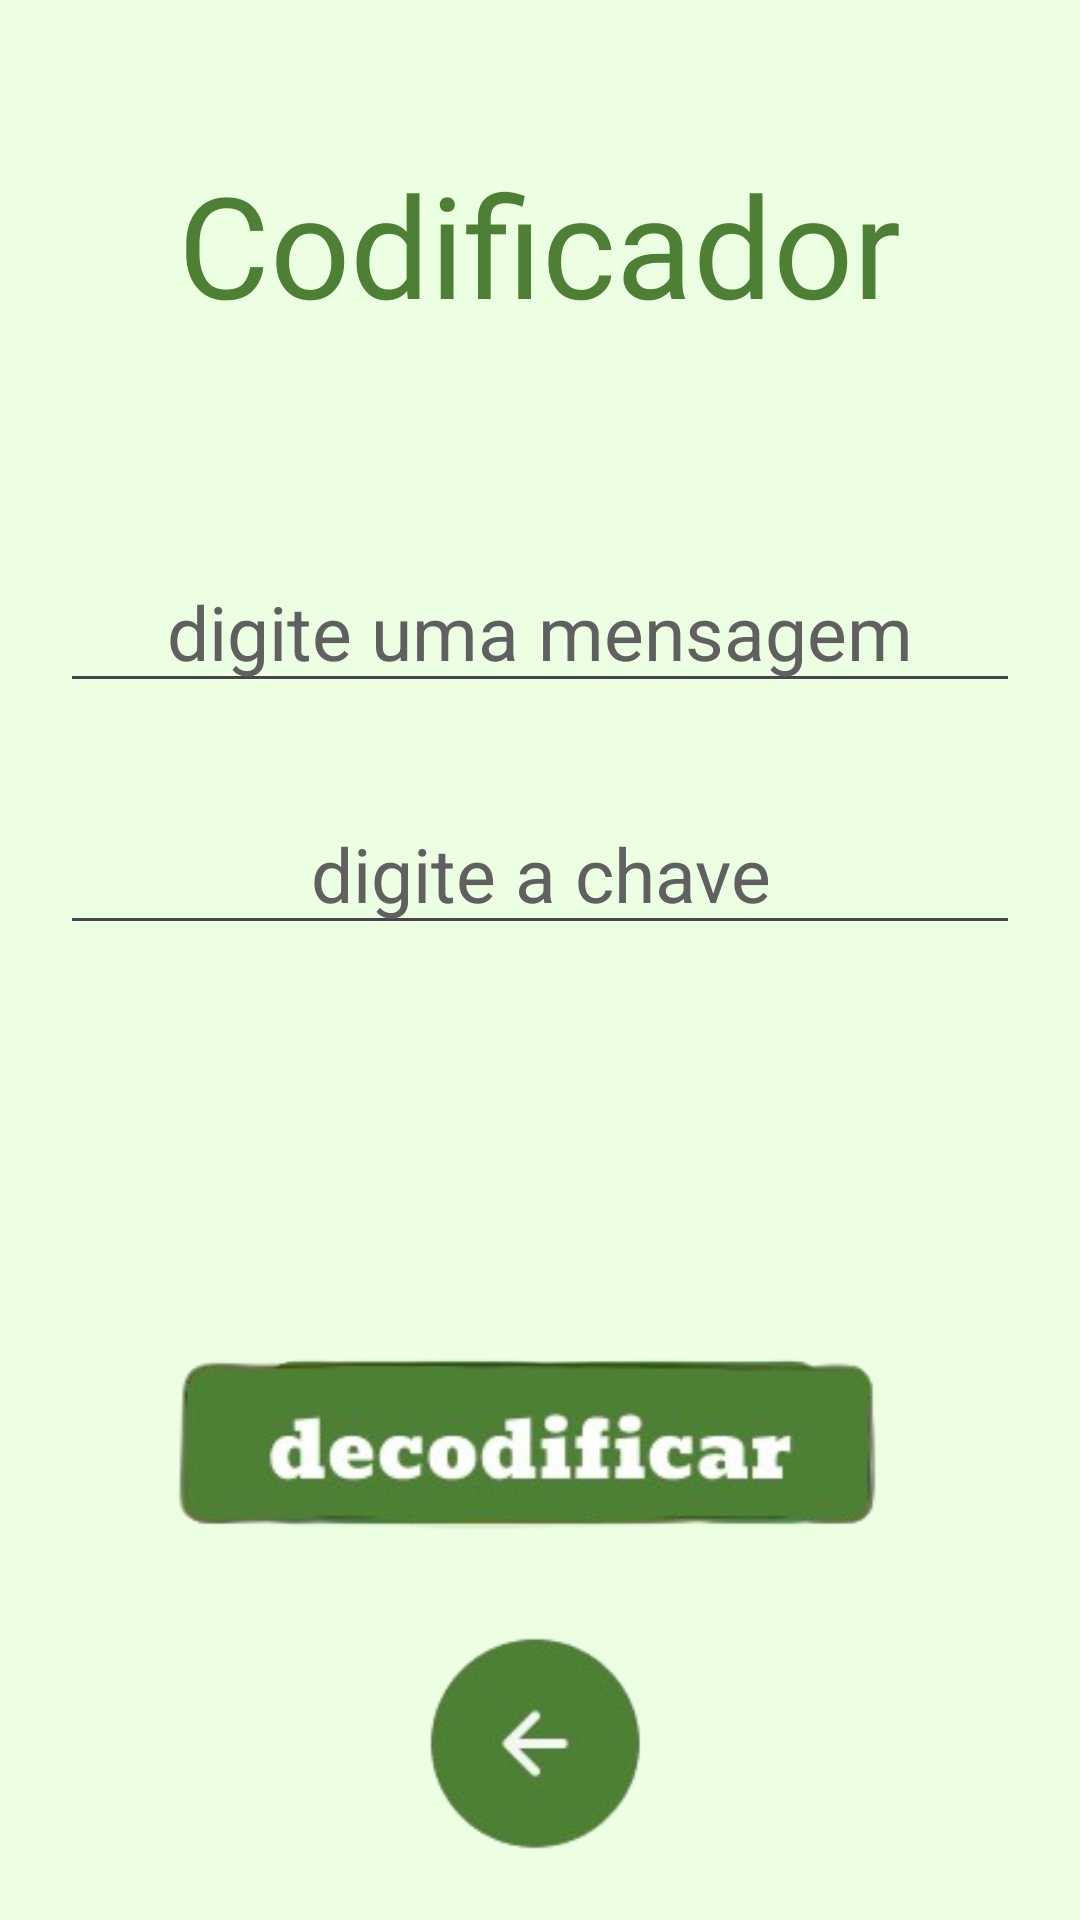

Icons on this 1080 × 1920 Android screen, each with its box as [left=x1, top=y1, right=x2, bottom=y2]:
voltar: [left=430, top=1639, right=640, bottom=1849]
